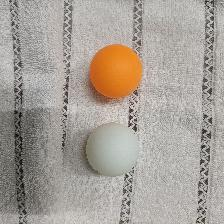WhiteBall: (85, 121, 138, 177)
YellowBall: (88, 43, 143, 98)
